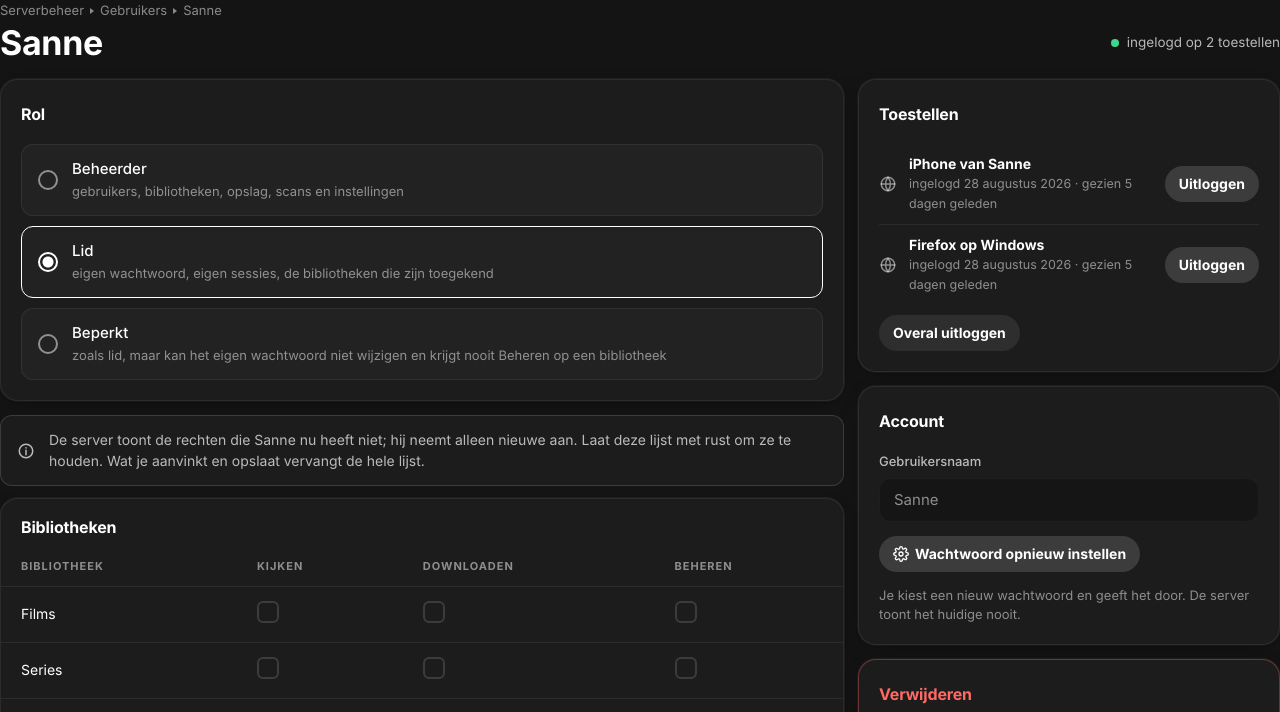
Test: toestellen › gaat door na een weigering en zegt hoeveel er wel en niet lukte
This screenshot has width=1280, height=712.
Click the button "Overal uitloggen" at point(949, 333), box [879, 315, 1020, 351]
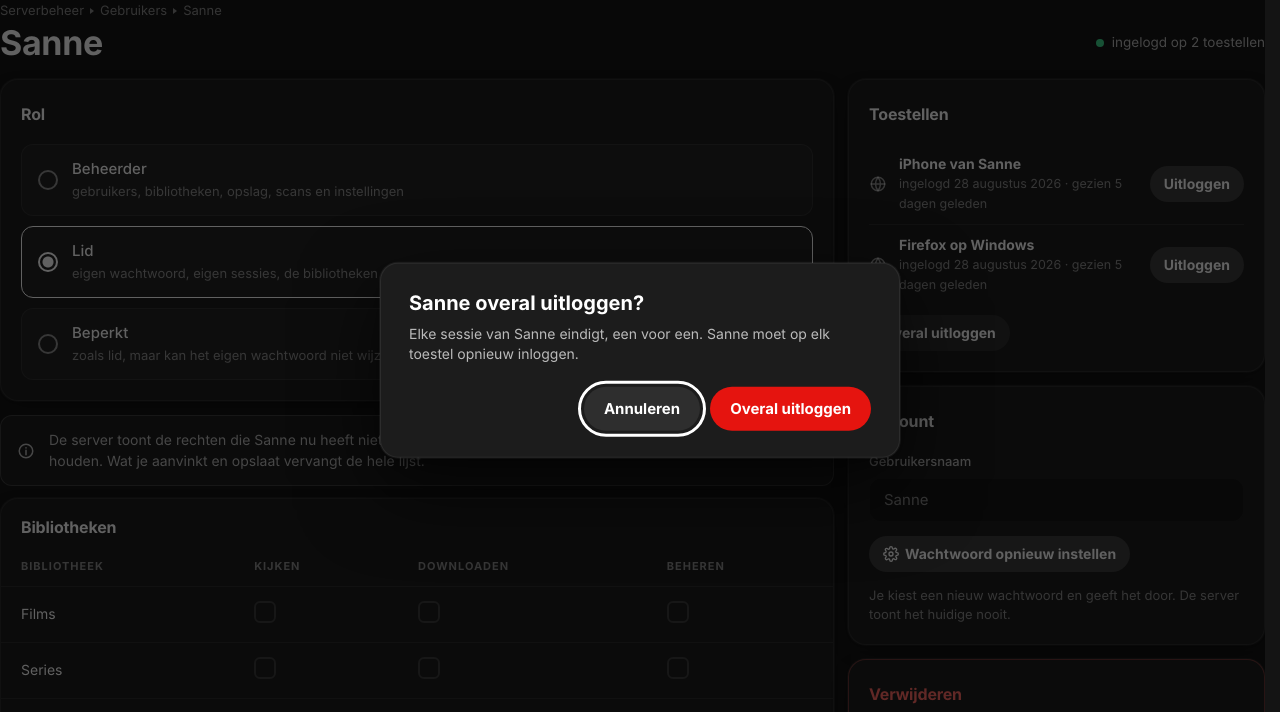
Click the button "Overal uitloggen" at point(791, 408), box [710, 386, 871, 430]
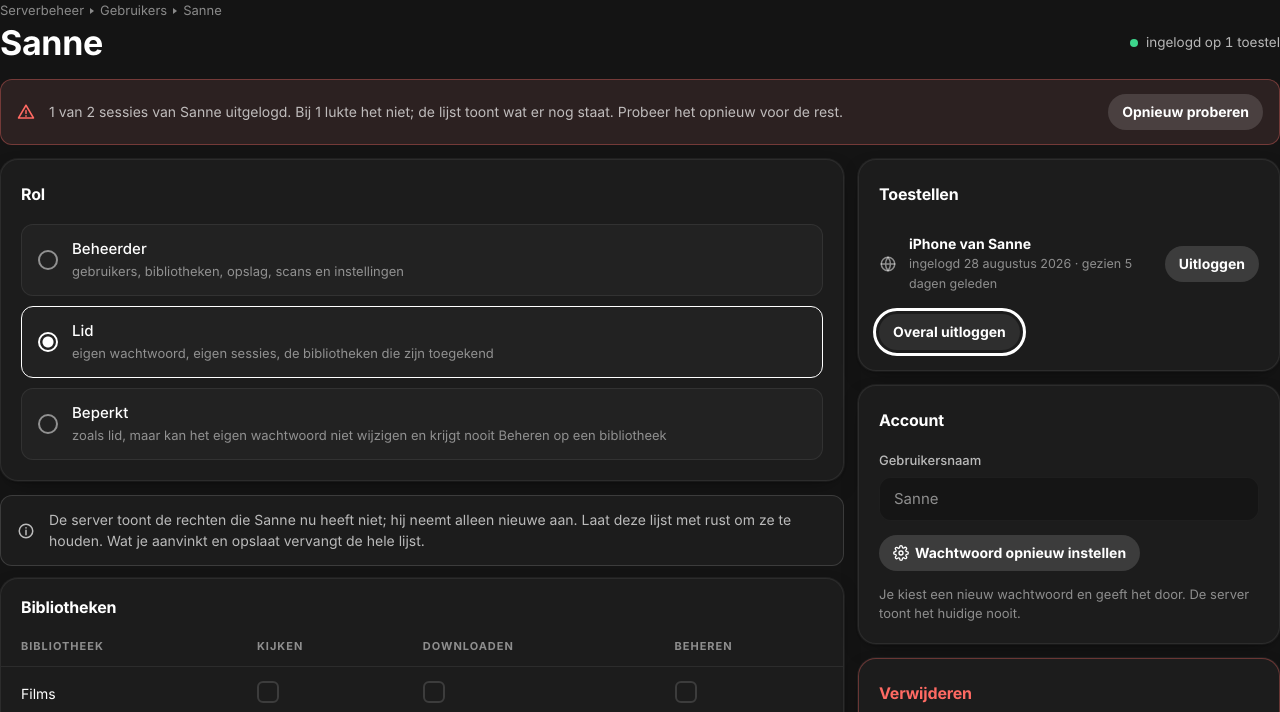
Expected: the text "iPhone van Sanne" is shown, [909, 235, 1031, 252]
Expected: the message shows "1 van 2 sessies van Sanne uitgelogd", [49, 103, 843, 120]
Expected: the text "Firefox op Windows" is gone
